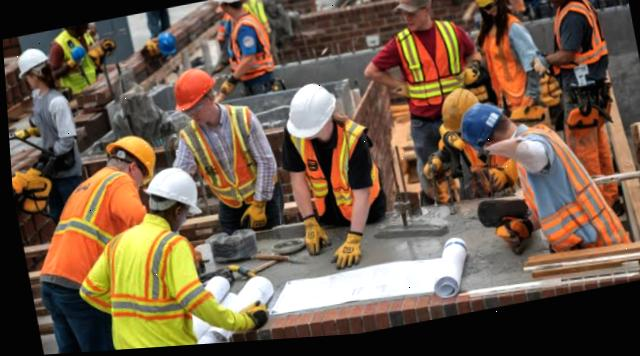helmet: (137, 161, 213, 218), (101, 129, 161, 184), (278, 89, 339, 138), (161, 65, 217, 115), (454, 104, 508, 155), (434, 84, 481, 138), (7, 41, 48, 81), (471, 0, 506, 12), (212, 0, 248, 11), (534, 0, 589, 4)
vest: (505, 111, 640, 284), (22, 165, 162, 304), (88, 221, 223, 352), (170, 86, 276, 222), (285, 116, 381, 238), (390, 5, 476, 120), (474, 15, 539, 115), (544, 2, 613, 86), (213, 5, 284, 83), (48, 23, 108, 101)
